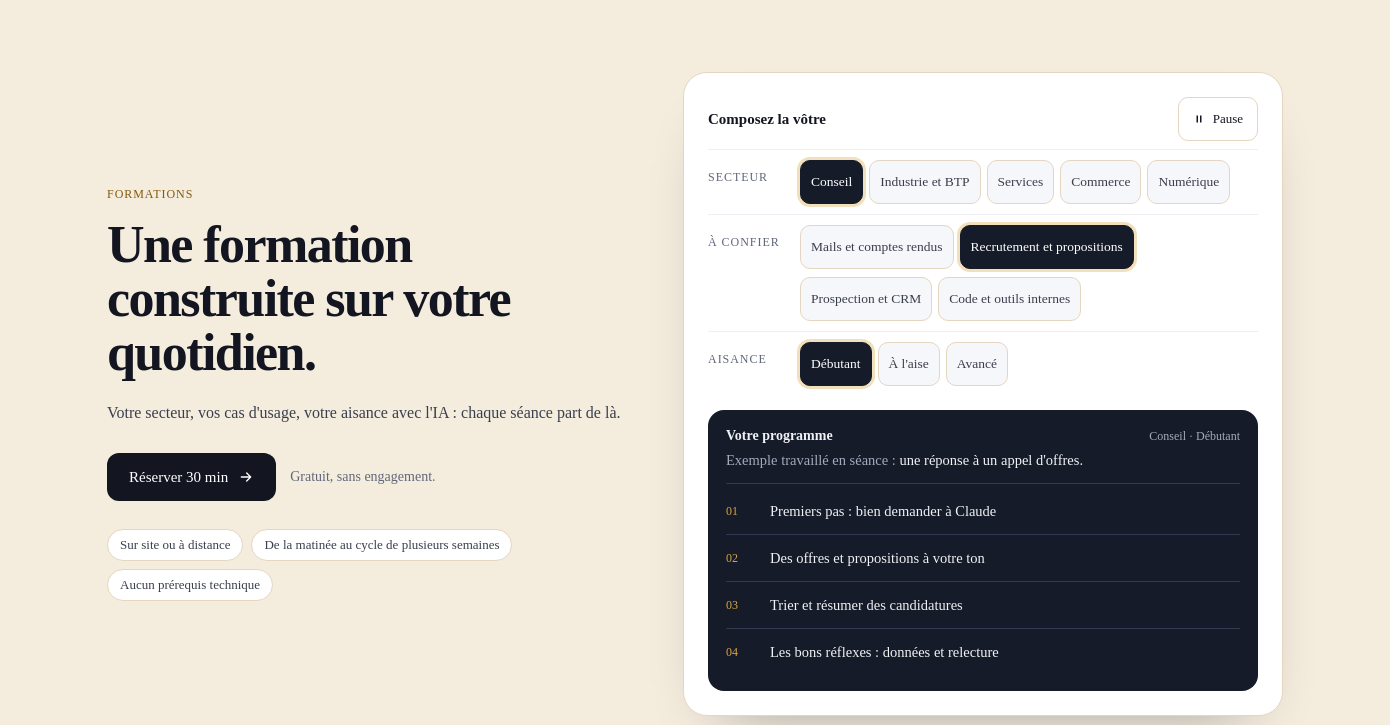
Scenario: auto-demo › Pause stops it and the label flips to Démonstration
Click the button "Pause". click: (1218, 119)
box: [1178,97,1258,141]
Wait 20000 ms
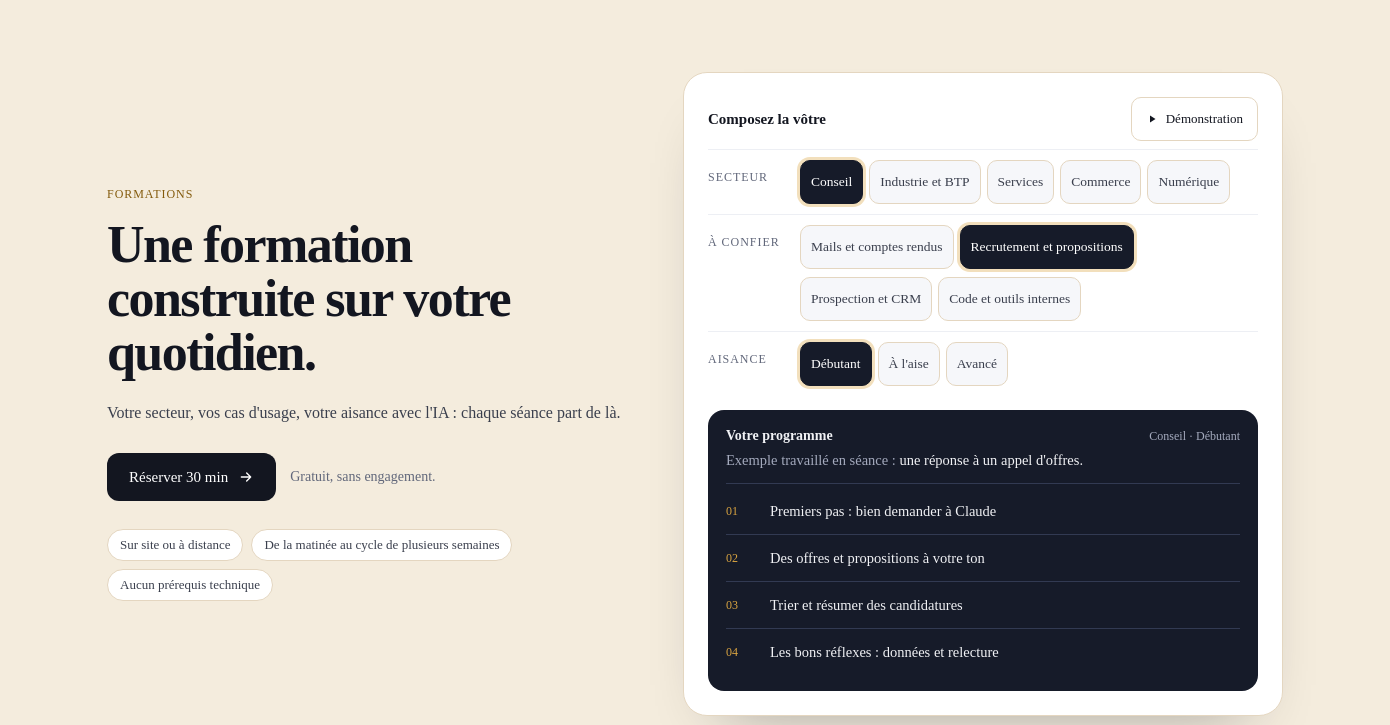
Expected: the text "Conseil · Débutant" is shown, [1149,429,1240,444]
Now the button "Démonstration" is shown, box [1131,97,1258,141]
